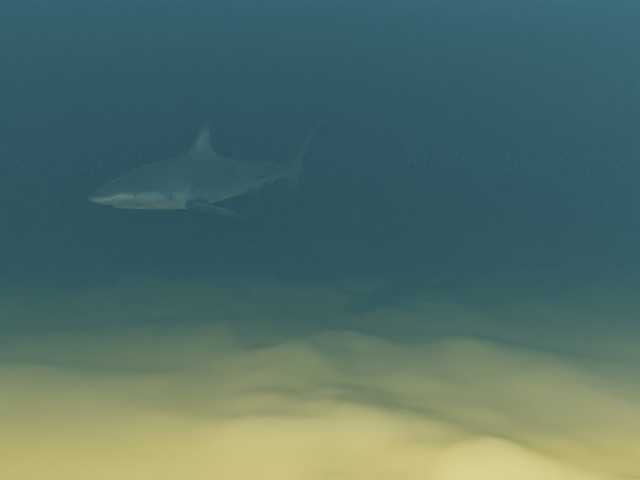Carribean Shark.001: (88, 120, 321, 218)
